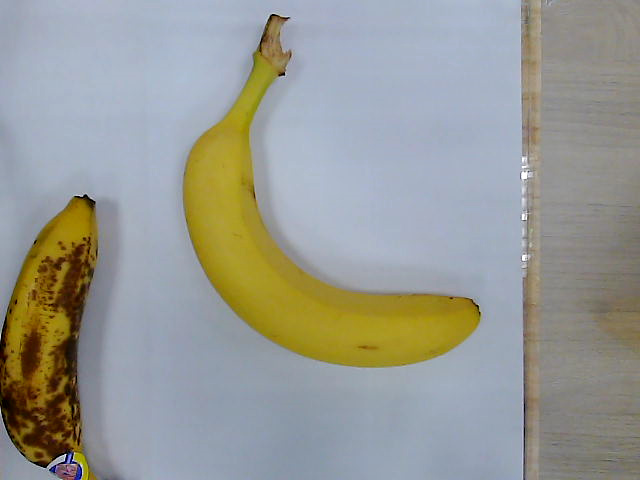fresh_banana: (181, 15, 482, 369)
rotten_banana: (3, 192, 98, 480)
